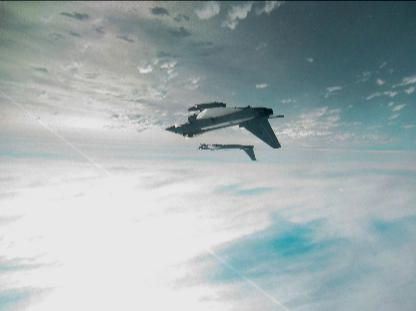E2: (164, 100, 284, 148)
Su57: (196, 142, 262, 162)
